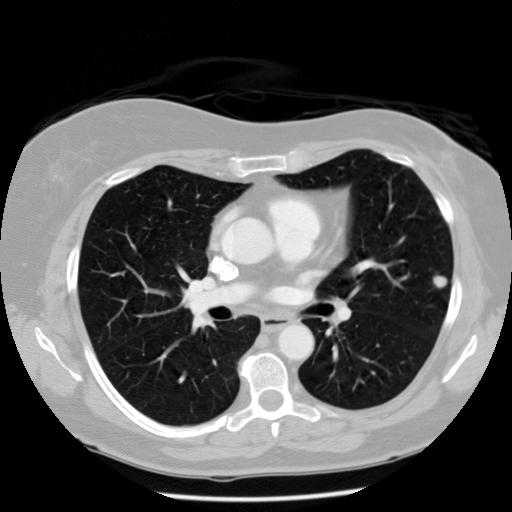nodule: (429, 272, 449, 292)
